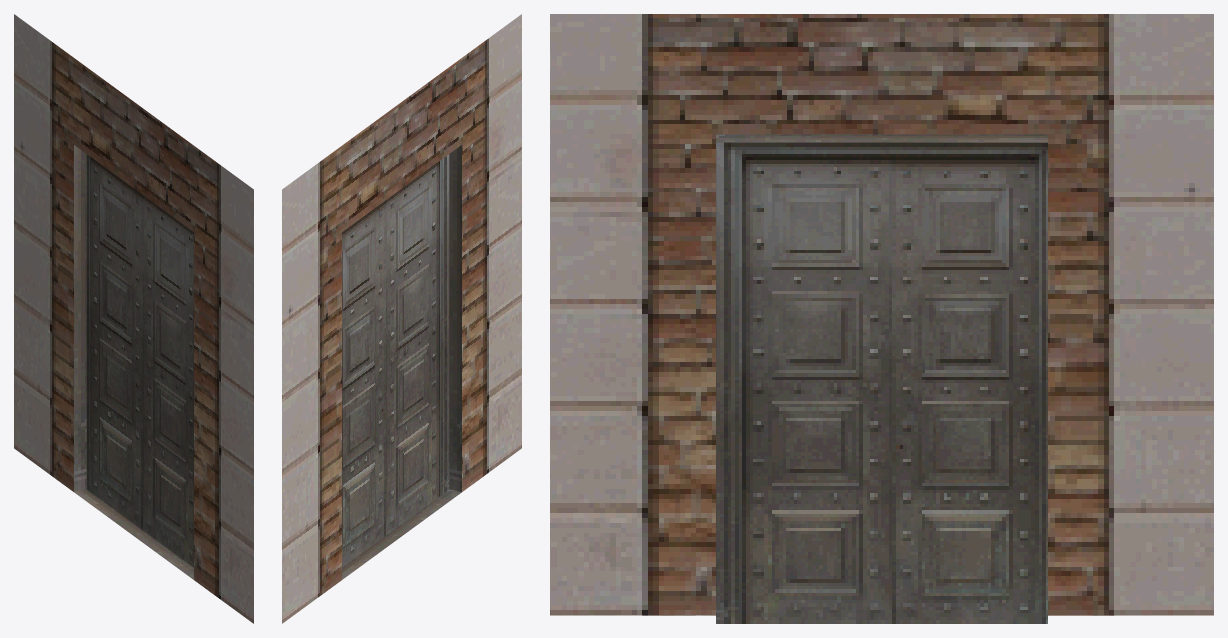
The model's file is fancy_brick_wall_metal_door_indent.glb.
The picture shows the model from 3 angles, left to right: view 1: azimuth 30°, elevation 25°; view 2: azimuth 150°, elevation 25°; view 3: azimuth 270°, elevation 25°; orthographic projection. The views are drawn at different scales.
Parts seen in each view (by area): view 1: fancy_brick_wall_metal_door_indent; view 2: fancy_brick_wall_metal_door_indent; view 3: fancy_brick_wall_metal_door_indent.
Part boxes in pixels (box(x1,y1,x2,y2)): fancy_brick_wall_metal_door_indent: box(14, 14, 253, 623); fancy_brick_wall_metal_door_indent: box(282, 14, 521, 623); fancy_brick_wall_metal_door_indent: box(550, 14, 1213, 623).
Bounding box in the file's own units: 0.0907 × 3 × 3.
1 material, 1 textured.
